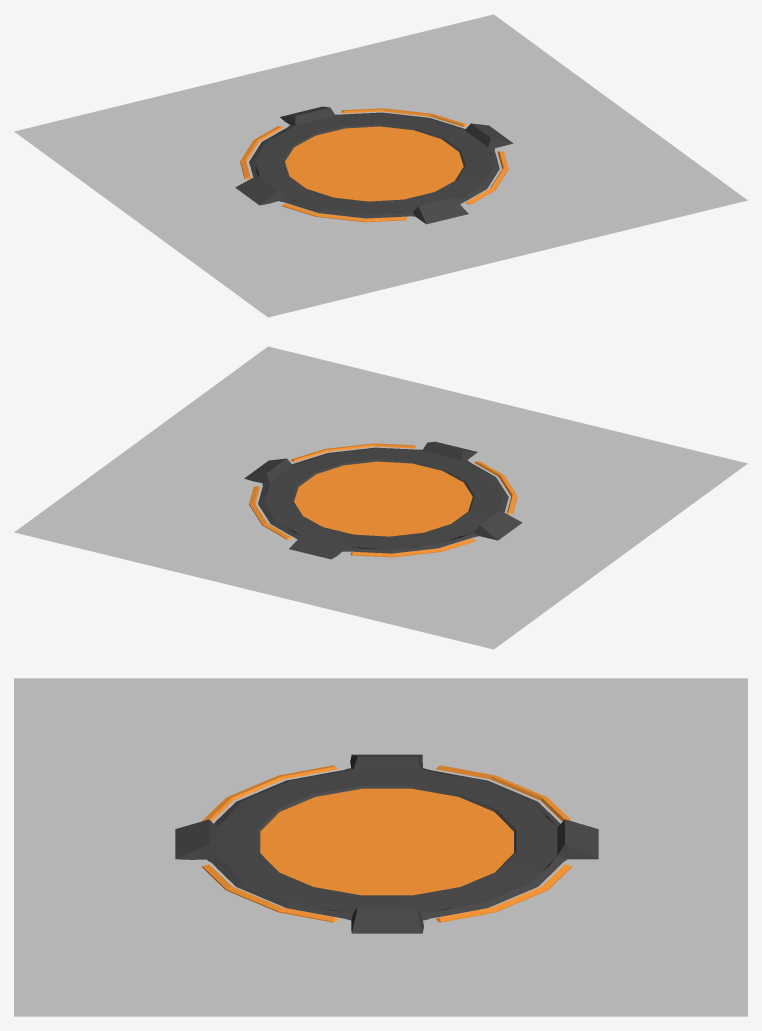
The model's file is SPW0110016.FBX.
3 views of the same model, one above another, from view 1: azimuth 30°, elevation 25°; view 2: azimuth 150°, elevation 25°; view 3: azimuth 270°, elevation 25° (orthographic). The views are drawn at different scales.
Parts seen in each view (by area): view 1: smSPW0110016; view 2: smSPW0110016; view 3: smSPW0110016.
Boxes of the visible parts, <box> form: smSPW0110016: <box>14,14,747,317</box>; smSPW0110016: <box>14,346,747,649</box>; smSPW0110016: <box>14,678,747,1016</box>.
Size of the model in its own units: 300 by 21.88 by 276.
2 materials, 1 textured.
